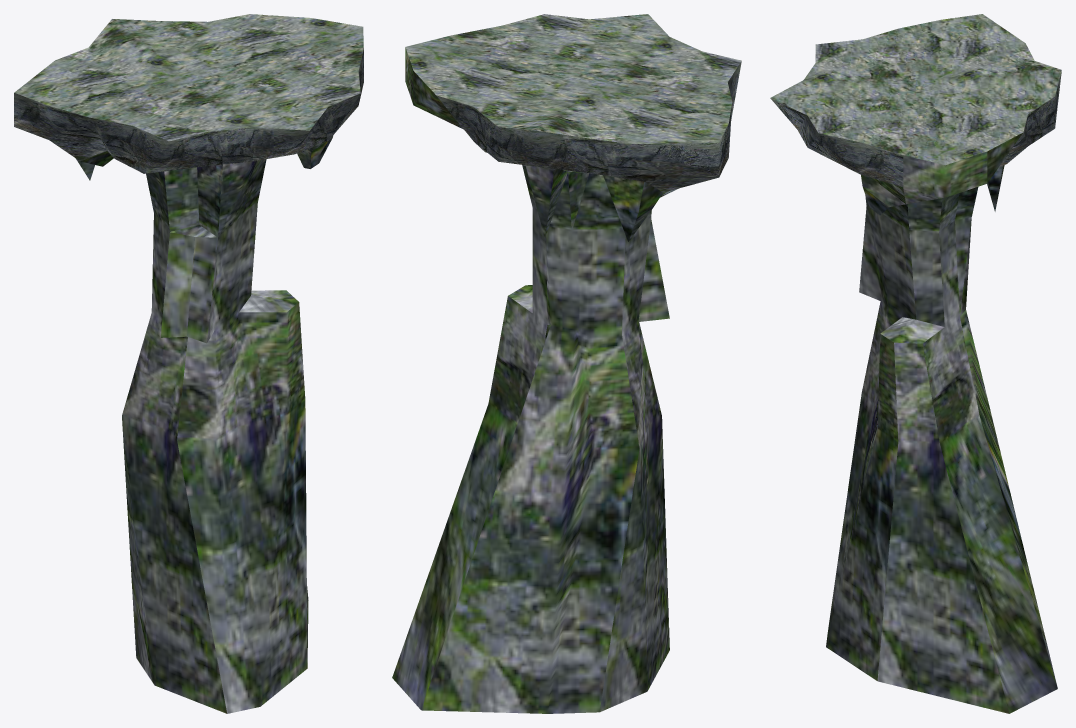
3 renders of one model, left to right at view 1: azimuth 30°, elevation 25°; view 2: azimuth 150°, elevation 25°; view 3: azimuth 270°, elevation 25°, orthographic. The views are drawn at different scales.
Visible parts, largest first — view 1: Box14; view 2: Box14; view 3: Box14.
Boxes of the visible parts, bbox=[...] form: Box14: bbox=[14, 14, 363, 713]; Box14: bbox=[392, 14, 741, 713]; Box14: bbox=[770, 14, 1061, 713].
Bounding box in the file's own units: 385 × 672 × 314.
